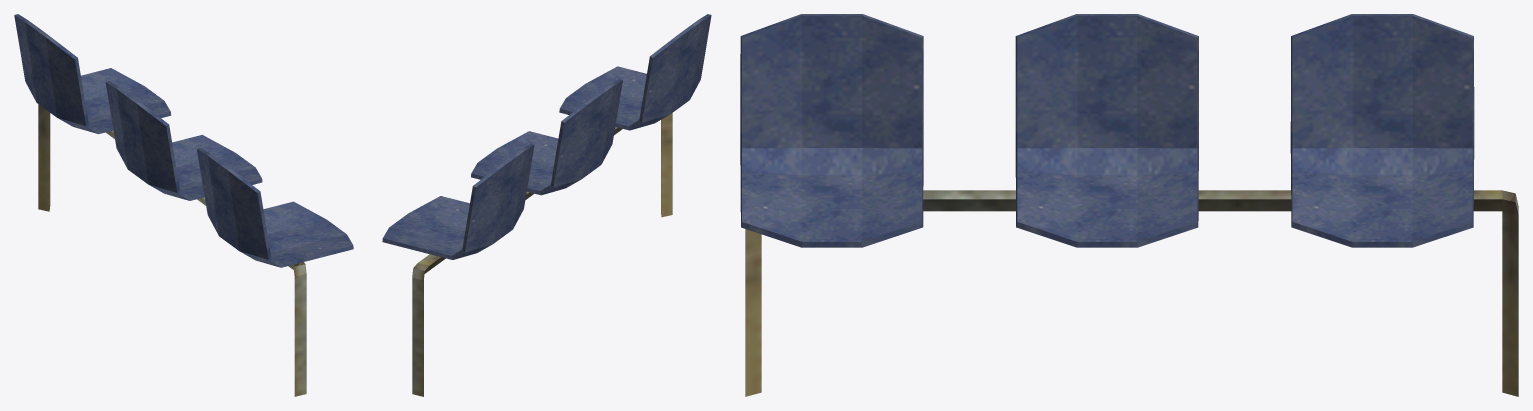
File: Urban_BusstopThreeSeats_Model.fbx
The picture shows the model from 3 angles, left to right: view 1: azimuth 30°, elevation 25°; view 2: azimuth 150°, elevation 25°; view 3: azimuth 270°, elevation 25°; orthographic projection. The views are drawn at different scales.
Visible parts, largest first — view 1: Urban_BusstopThreeSeats_Mesh; view 2: Urban_BusstopThreeSeats_Mesh; view 3: Urban_BusstopThreeSeats_Mesh.
Boxes of the visible parts, bbox=[...] form: Urban_BusstopThreeSeats_Mesh: bbox=[14, 14, 353, 396]; Urban_BusstopThreeSeats_Mesh: bbox=[382, 14, 711, 396]; Urban_BusstopThreeSeats_Mesh: bbox=[740, 14, 1518, 396].
Size of the model in its own units: 0.692 by 1.25 by 2.6.
